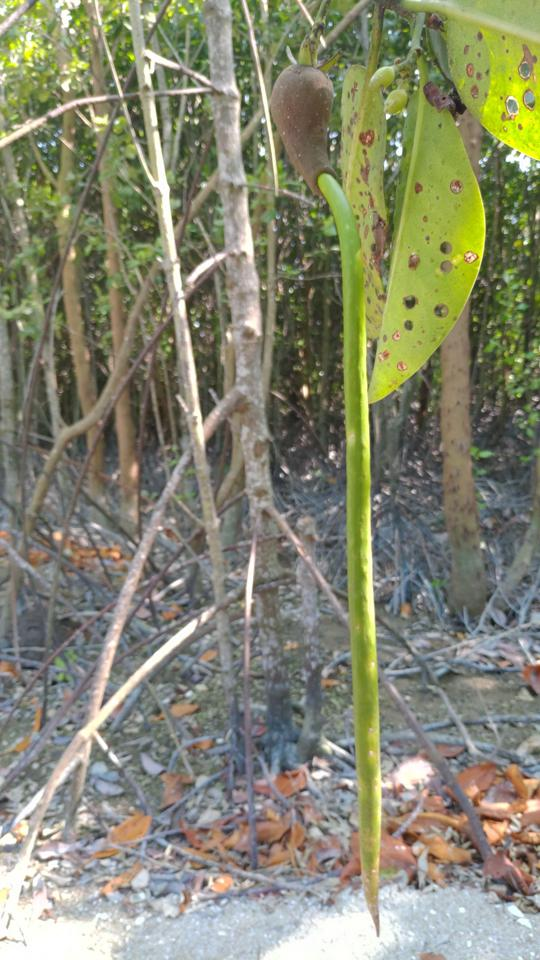mentah: (250, 32, 415, 949)
